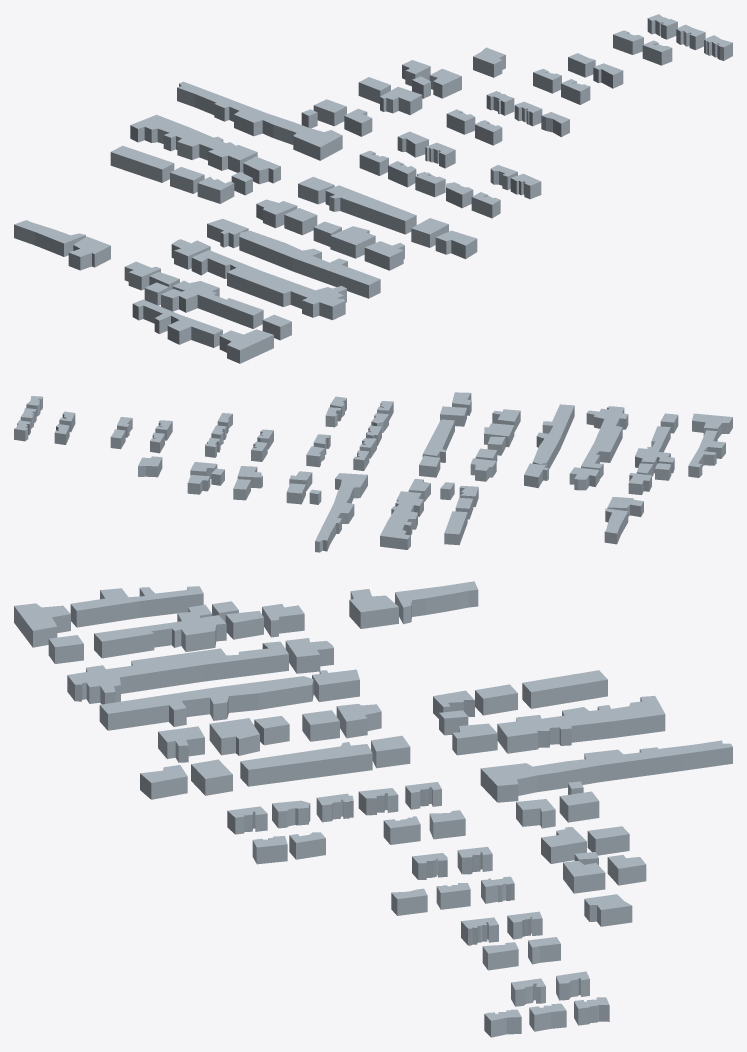
3 views of the same model, one above another, from view 1: azimuth 30°, elevation 25°; view 2: azimuth 150°, elevation 25°; view 3: azimuth 270°, elevation 25° (orthographic). The views are drawn at different scales.
Size of what is drawn, in the model's own units: 449 by 8 by 310.
